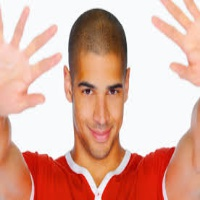ring: (8, 2, 30, 52), (184, 1, 200, 17)
